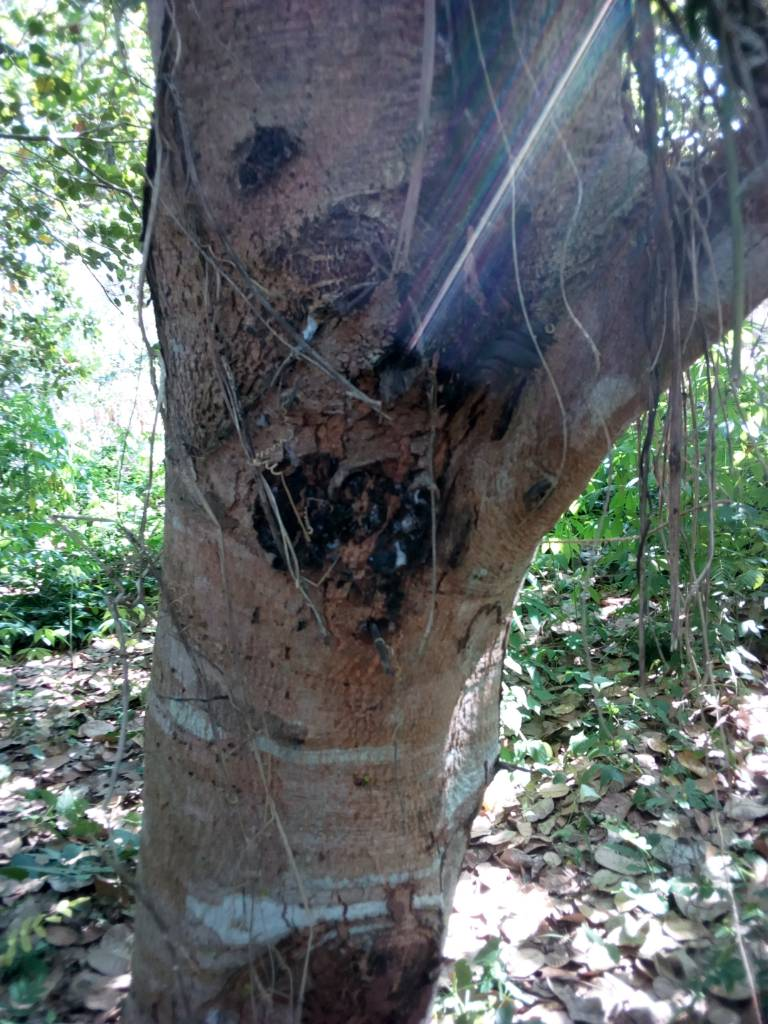ploceadorus ferrugineus: (208, 272, 535, 706)
